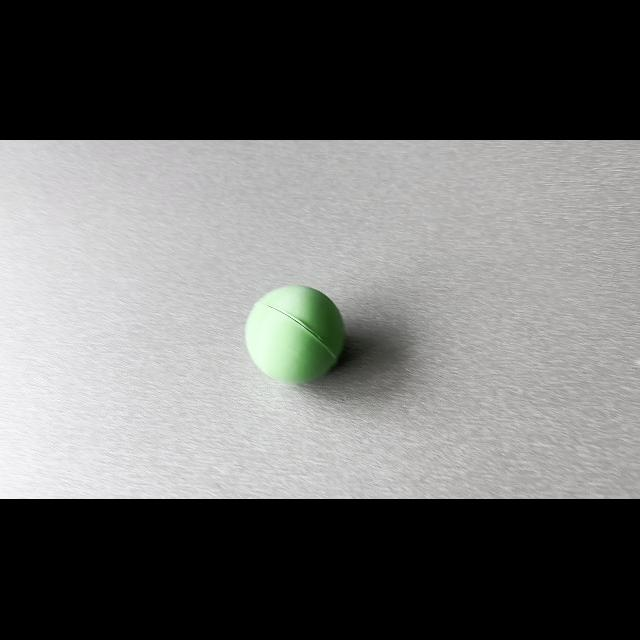objects: (238, 278, 356, 392)
